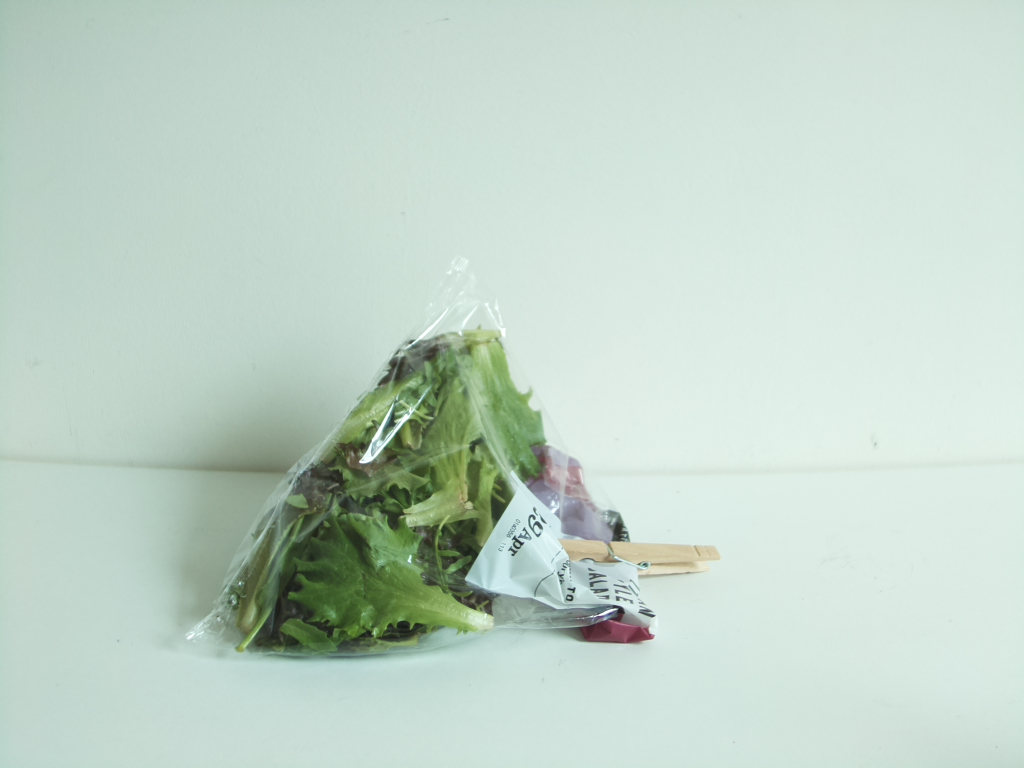salad: (210, 326, 654, 654)
